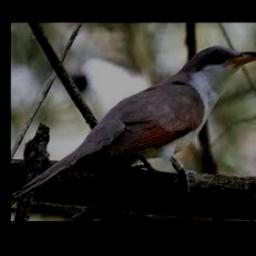Cuckoo: (12, 46, 256, 199)
